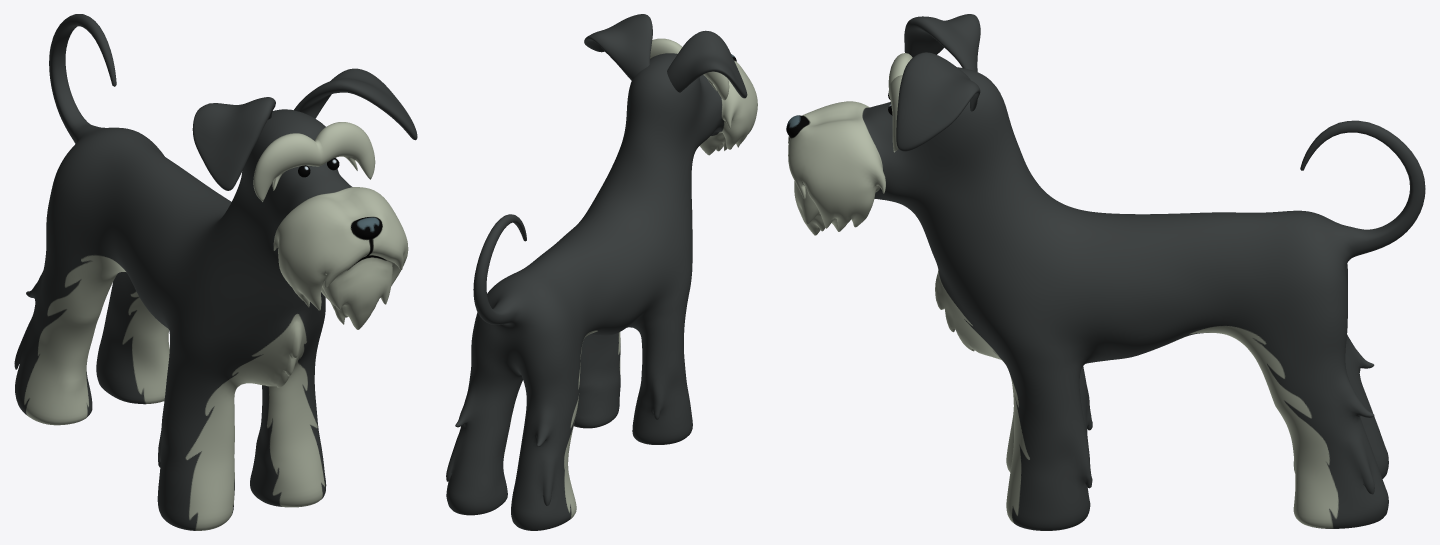
File: Schnauzer.glb
3 renders of one model, left to right at view 1: azimuth 30°, elevation 25°; view 2: azimuth 150°, elevation 25°; view 3: azimuth 270°, elevation 25°, orthographic. The views are drawn at different scales.
Visible parts, largest first — view 1: schnauzer.1; view 2: schnauzer.1; view 3: schnauzer.1.
Boxes of the visible parts, left/top/right/bottom form: schnauzer.1: left=14, top=14, right=417, bottom=530; schnauzer.1: left=446, top=14, right=757, bottom=530; schnauzer.1: left=786, top=14, right=1425, bottom=530.
Bounding box in the file's own units: 0.0421 × 0.0929 × 0.117.
1 material, 1 textured.
